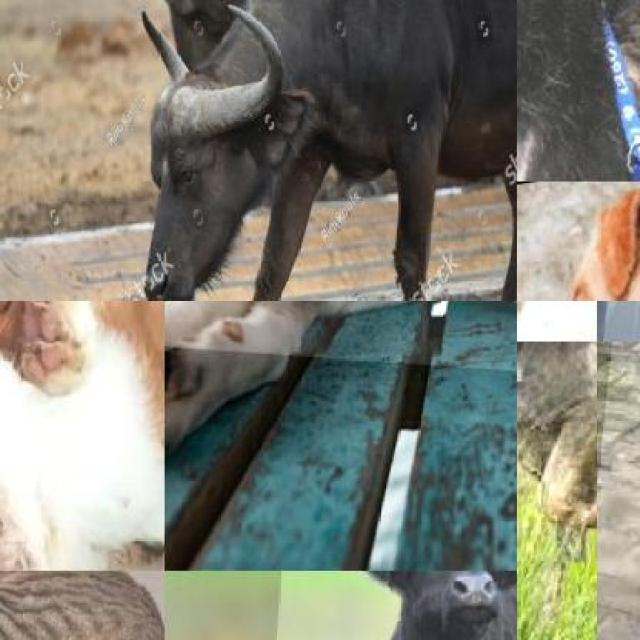buffalo: (152, 0, 517, 300)
cat: (0, 300, 165, 571), (0, 571, 165, 640)
cow: (597, 341, 640, 640)
dog: (165, 300, 517, 380), (517, 341, 597, 640), (517, 0, 640, 182), (517, 182, 640, 300)
injured: (517, 380, 597, 571)
